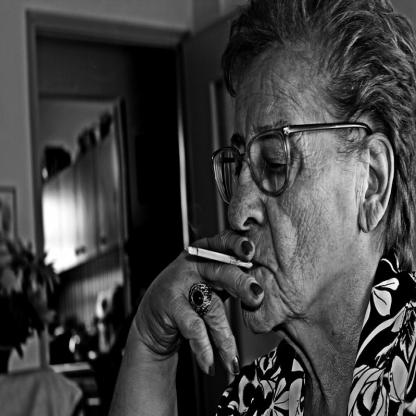smoking: (184, 246, 253, 268)
